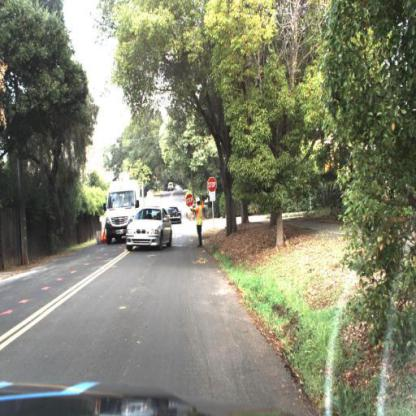car: (100, 170, 145, 248), (126, 207, 177, 254), (167, 201, 188, 228), (166, 175, 176, 195)
pedestrian: (186, 190, 208, 247)
